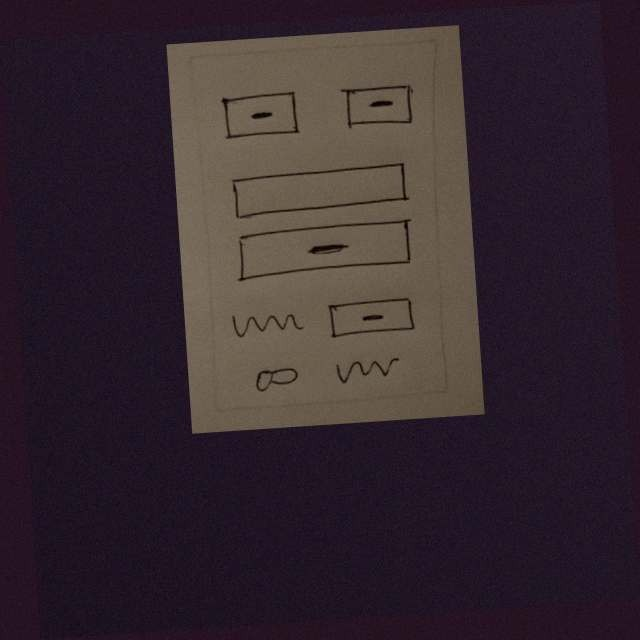button: (232, 217, 419, 285), (218, 86, 303, 146), (323, 294, 422, 345), (336, 78, 419, 135)
switch: (247, 362, 305, 400)
text: (228, 302, 305, 344), (327, 351, 406, 391)
text_input: (226, 159, 414, 219)
